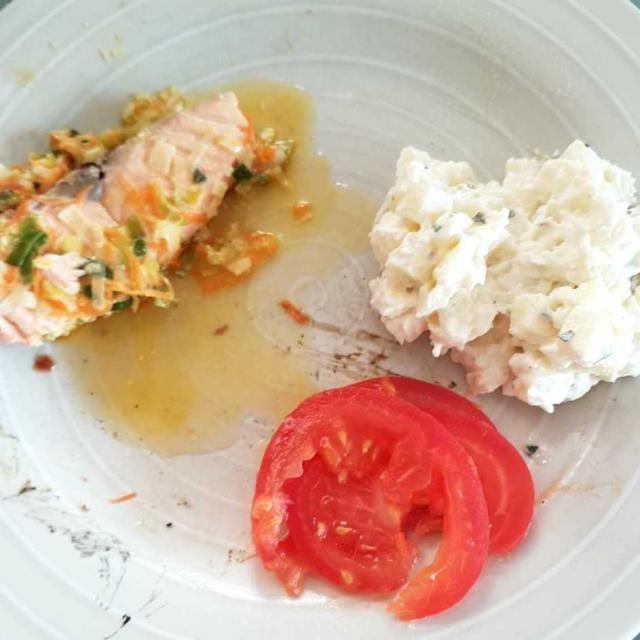mixed-vegetables: (0, 66, 314, 358)
salmon: (0, 82, 262, 347)
tomato: (254, 384, 488, 616)
